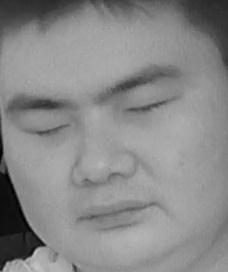blink: (25, 115, 73, 146), (123, 93, 175, 120)
mouth: (74, 189, 161, 236)
